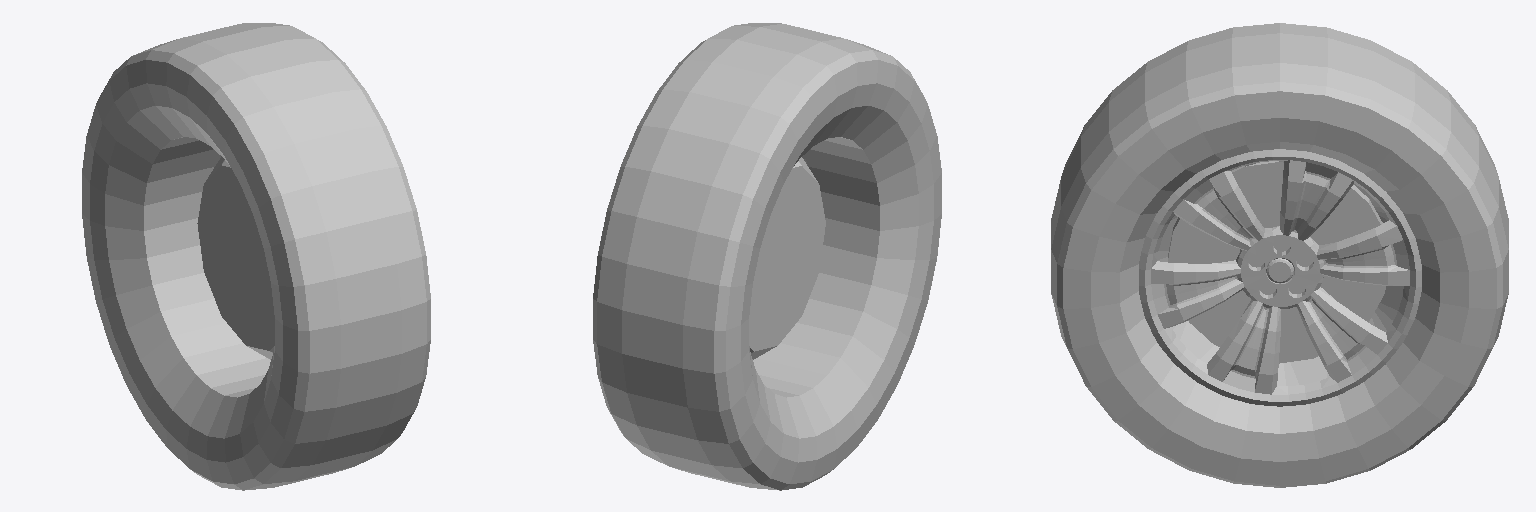
The model's file is rodas.obj.
3 renders of one model, left to right at view 1: azimuth 30°, elevation 25°; view 2: azimuth 150°, elevation 25°; view 3: azimuth 270°, elevation 25°, orthographic.
Visible parts, largest first — view 1: Object_2_Mesh_0; view 2: Object_2_Mesh_0; view 3: Object_2_Mesh_0.
Part boxes in pixels (x1,y1,x2,y2): Object_2_Mesh_0: (82,23,430,490); Object_2_Mesh_0: (593,23,941,490); Object_2_Mesh_0: (1051,23,1508,487).
Bounding box in the file's own units: 0.1595 × 0.4572 × 0.4547.